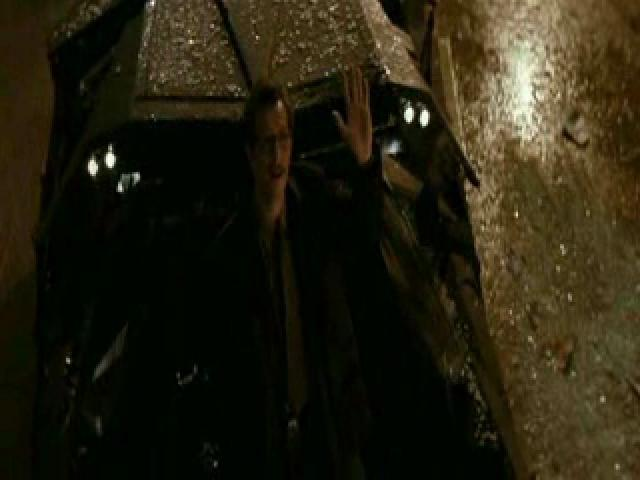L: (108, 80, 385, 480)
